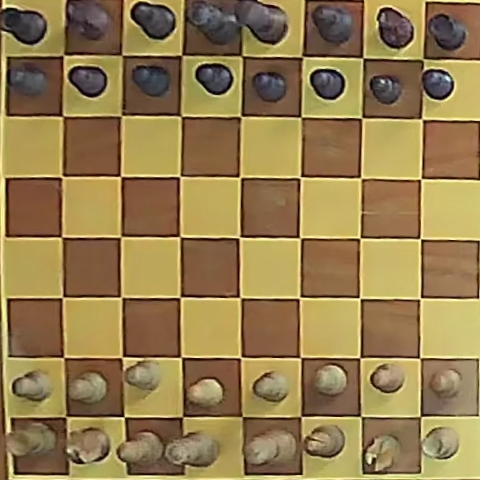black-bishop: (131, 2, 176, 40), (311, 5, 353, 45)
black-king: (234, 1, 288, 45)
black-knight: (66, 1, 111, 41), (377, 7, 414, 49)
black-pawn: (129, 63, 173, 100), (7, 65, 47, 97), (68, 66, 107, 97), (196, 64, 233, 95), (310, 69, 345, 100), (252, 71, 286, 102), (421, 69, 453, 100), (370, 75, 402, 105)
black-queen: (185, 2, 240, 45)
black-rook: (0, 7, 46, 46), (426, 13, 466, 51)
white-bishop: (118, 431, 164, 465), (304, 425, 344, 457)
white-king: (244, 428, 297, 466)
white-knight: (67, 427, 111, 463), (364, 434, 401, 471)
white-pawn: (68, 371, 107, 404), (185, 376, 225, 408), (13, 370, 53, 402), (252, 371, 289, 403), (125, 360, 159, 393), (314, 364, 348, 396), (370, 363, 405, 393), (429, 369, 462, 399)
white-queen: (164, 431, 220, 467)
white-rook: (6, 422, 57, 456), (422, 427, 459, 459)
